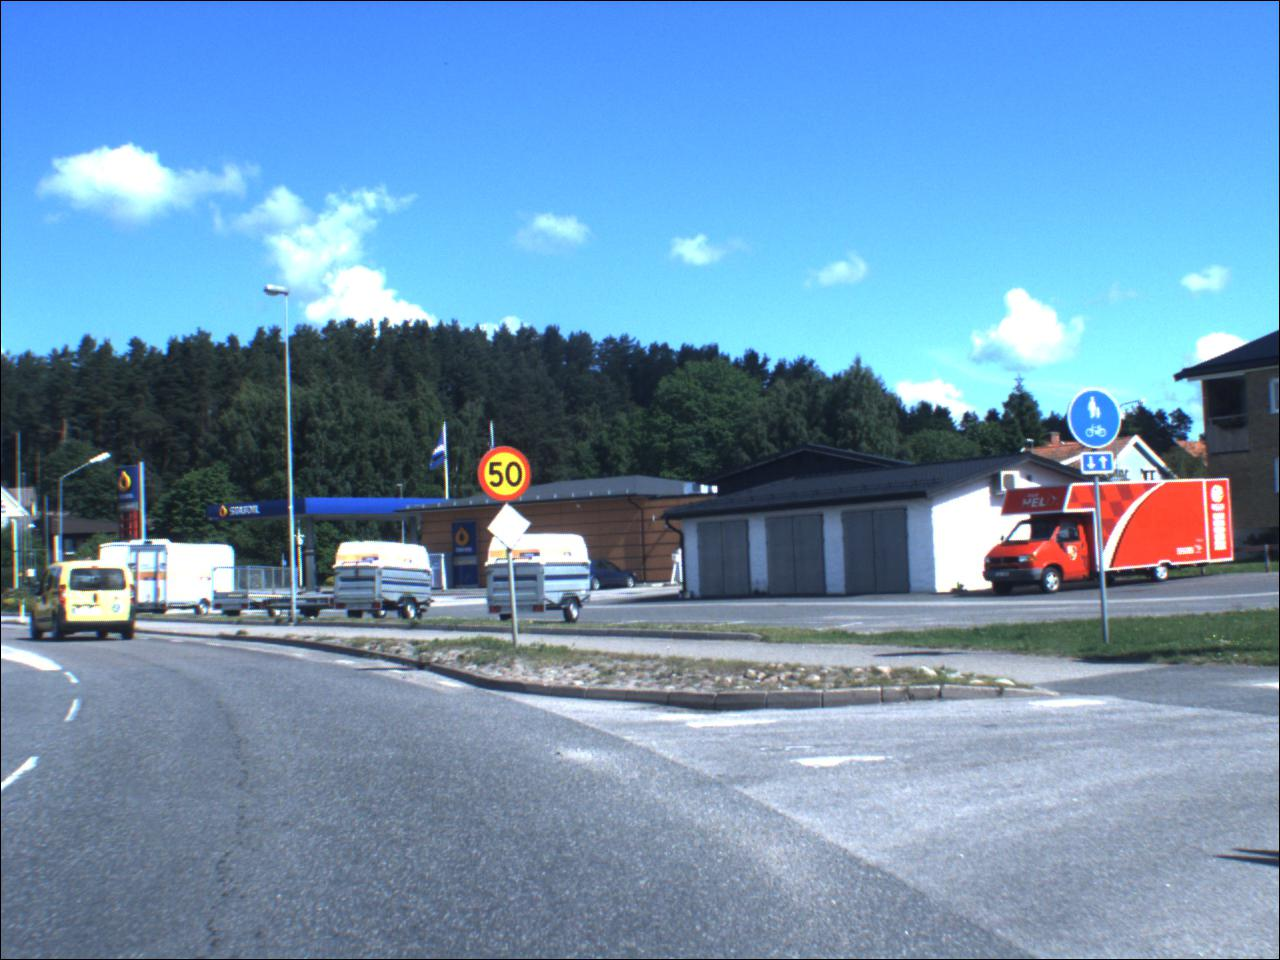50_SIGN: (479, 447, 537, 501)
PRIORITY_ROAD: (488, 503, 534, 551)
